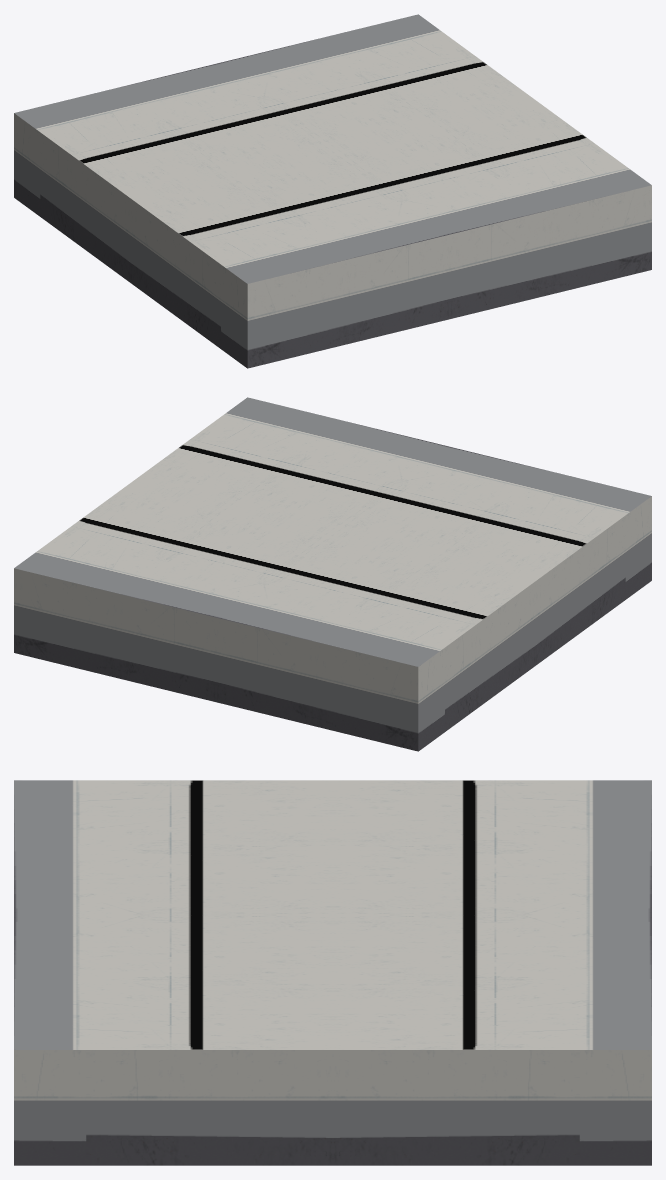
The model's file is G_Env_Arch_Floor_Metal_06_Pathway.fbx.
The picture shows the model from 3 angles, top to bottom: view 1: azimuth 30°, elevation 25°; view 2: azimuth 150°, elevation 25°; view 3: azimuth 270°, elevation 25°; orthographic projection. The views are drawn at different scales.
Parts seen in each view (by area): view 1: G_Env_Arch_Floor_Metal_06_Pathway; view 2: G_Env_Arch_Floor_Metal_06_Pathway; view 3: G_Env_Arch_Floor_Metal_06_Pathway.
Part boxes in pixels (x1,y1,x2,y2): G_Env_Arch_Floor_Metal_06_Pathway: (14,14,651,368); G_Env_Arch_Floor_Metal_06_Pathway: (14,397,651,751); G_Env_Arch_Floor_Metal_06_Pathway: (14,780,651,1165).
Bounding box in the file's own units: 500 × 100 × 500.
